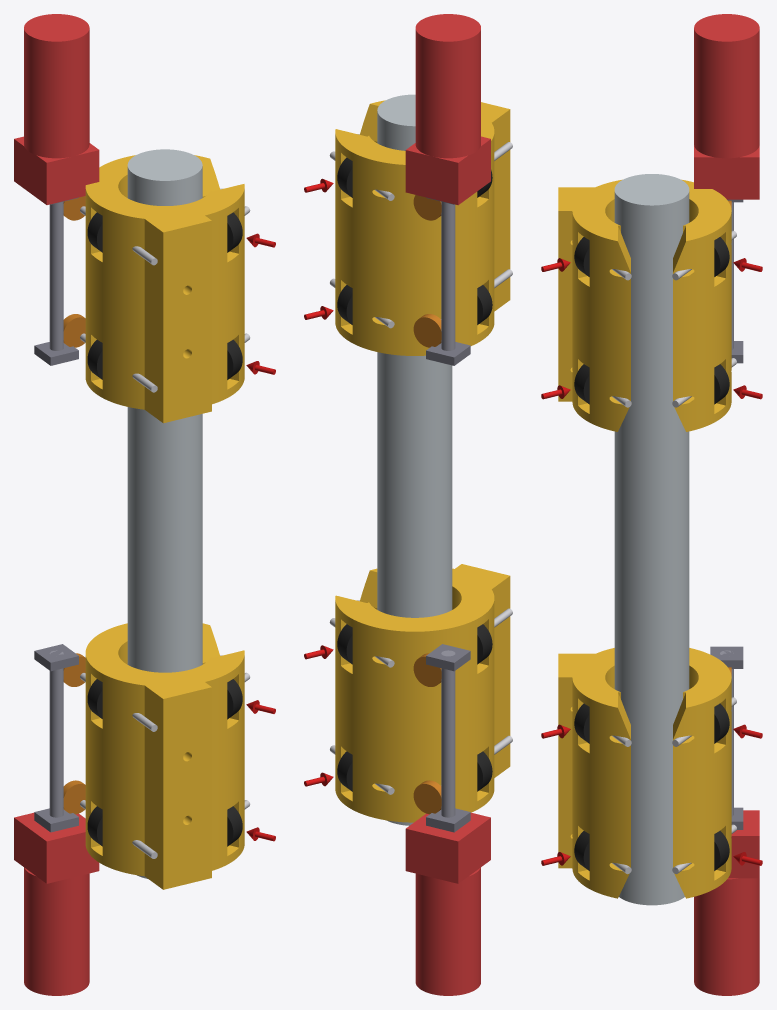
Rendered from cart-sleeves-v1.glb.
The picture shows the model from 3 angles, left to right: view 1: azimuth 30°, elevation 25°; view 2: azimuth 150°, elevation 25°; view 3: azimuth 270°, elevation 25°; orthographic projection.
Visible parts, largest first — view 1: hand_B_sleeve, hand_A_sleeve, track_pipe, hand_A_drive_motor, hand_B_drive_motor, hand_B_gearbox, hand_A_gearbox, hand_B_worm, hand_A_worm, hand_A_wheels, hand_B_wheels, hand_B_bearing_blocks (+5 smaller); view 2: hand_B_sleeve, hand_A_sleeve, track_pipe, hand_A_drive_motor, hand_B_drive_motor, hand_B_gearbox, hand_A_gearbox, hand_B_worm, hand_A_worm, hand_B_wheels, hand_A_wheels, hand_B_bearing_blocks (+5 smaller); view 3: track_pipe, hand_B_sleeve, hand_A_sleeve, hand_A_drive_motor, hand_B_drive_motor, hand_A_gearbox, hand_A_wheels, hand_B_wheels, hand_B_gearbox, hand_B_spring_preload_arrows, hand_A_spring_preload_arrows, hand_B_bearing_blocks (+2 smaller).
Boxes of the visible parts, x1,y1,x2,y2 form: hand_B_sleeve: (85, 623, 244, 889); hand_A_sleeve: (85, 155, 244, 423); track_pipe: (127, 149, 202, 878); hand_A_drive_motor: (24, 14, 89, 158); hand_B_drive_motor: (24, 867, 89, 995); hand_B_gearbox: (14, 812, 99, 883); hand_A_gearbox: (14, 136, 99, 204); hand_B_worm: (49, 650, 63, 817); hand_A_worm: (49, 201, 63, 350); hand_A_wheels: (87, 212, 242, 379); hand_B_wheels: (87, 679, 242, 846); hand_B_bearing_blocks: (34, 644, 78, 832); hand_B_sleeve: (335, 564, 510, 822); hand_A_sleeve: (335, 100, 510, 355); track_pipe: (377, 94, 452, 825); hand_A_drive_motor: (415, 14, 480, 158); hand_B_drive_motor: (415, 867, 480, 995); hand_B_gearbox: (405, 812, 490, 883); hand_A_gearbox: (405, 136, 490, 205); hand_B_worm: (441, 650, 455, 817); hand_A_worm: (441, 201, 455, 350); hand_B_wheels: (337, 624, 492, 791); hand_A_wheels: (337, 157, 492, 324); hand_B_bearing_blocks: (426, 644, 470, 832); track_pipe: (614, 174, 689, 905); hand_B_sleeve: (558, 648, 731, 898); hand_A_sleeve: (558, 179, 731, 431); hand_A_drive_motor: (694, 14, 759, 158); hand_B_drive_motor: (694, 878, 759, 995); hand_A_gearbox: (694, 145, 759, 199); hand_A_wheels: (574, 237, 729, 404); hand_B_wheels: (574, 703, 729, 870); hand_B_gearbox: (728, 810, 759, 878); hand_B_spring_preload_arrows: (541, 724, 762, 865); hand_A_spring_preload_arrows: (541, 258, 762, 399); hand_B_bearing_blocks: (710, 646, 743, 829).
Bounding box in the file's own units: 84.37 × 450 × 94.73.
